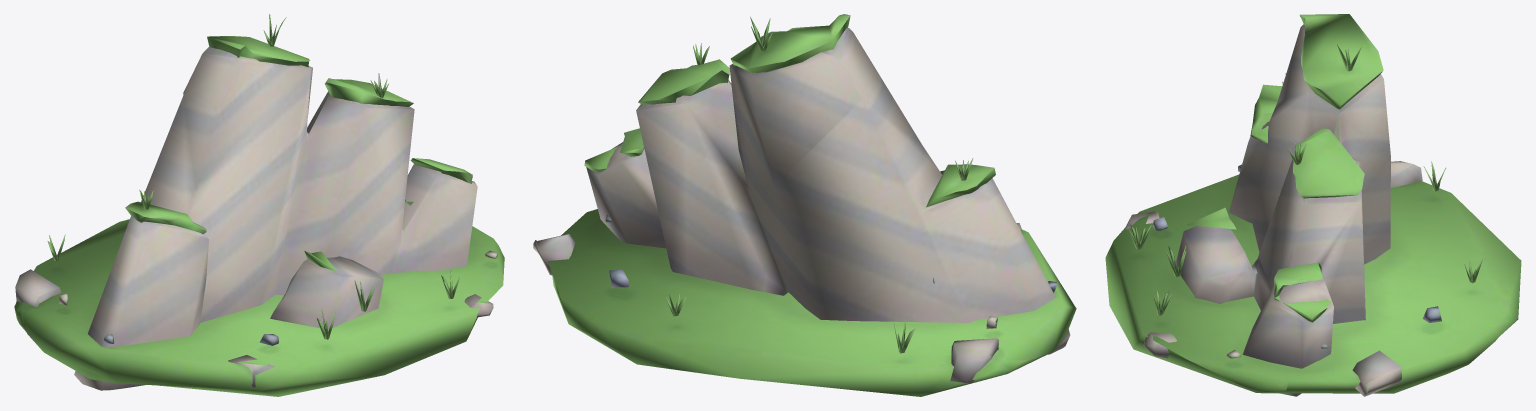
Rendered from rocky-outcrop.glb.
The picture shows the model from 3 angles, left to right: view 1: azimuth 30°, elevation 25°; view 2: azimuth 150°, elevation 25°; view 3: azimuth 270°, elevation 25°; orthographic projection. The views are drawn at different scales.
Visible parts, largest first — view 1: rocky-outcrop_body; view 2: rocky-outcrop_body; view 3: rocky-outcrop_body.
Part boxes in pixels (bbox=[...]): rocky-outcrop_body: bbox=[14, 14, 504, 396]; rocky-outcrop_body: bbox=[533, 14, 1076, 396]; rocky-outcrop_body: bbox=[1105, 14, 1521, 396].
Bounding box in the file's own units: 4.15 × 2.45 × 3.33.
1 material, 1 textured.
